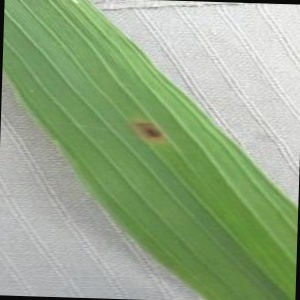Bacterial_Leaf_Blight: (127, 116, 171, 145)
